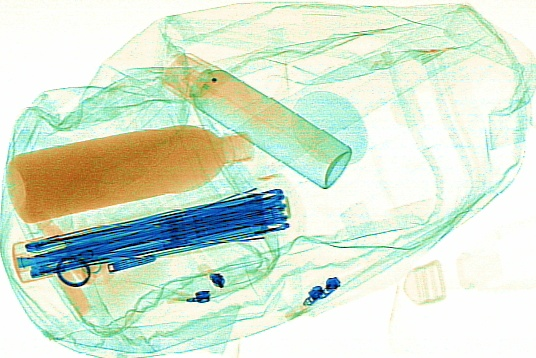pressure: (158, 49, 353, 190)
